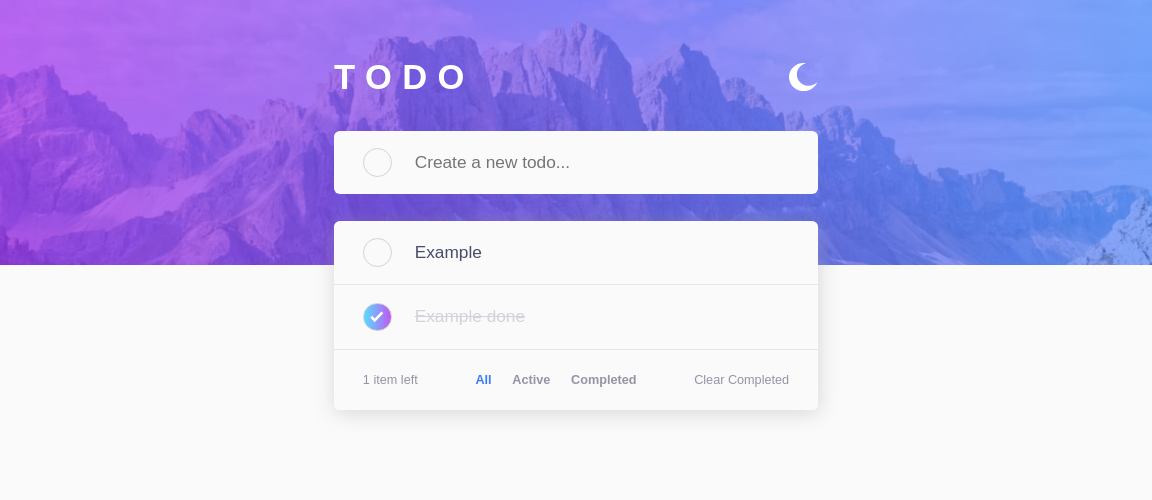
it: TodoList Component › add new task
In the field with placeholder "Create a new todo...": (585, 163) [415,152,756,173], type "Example todo test"
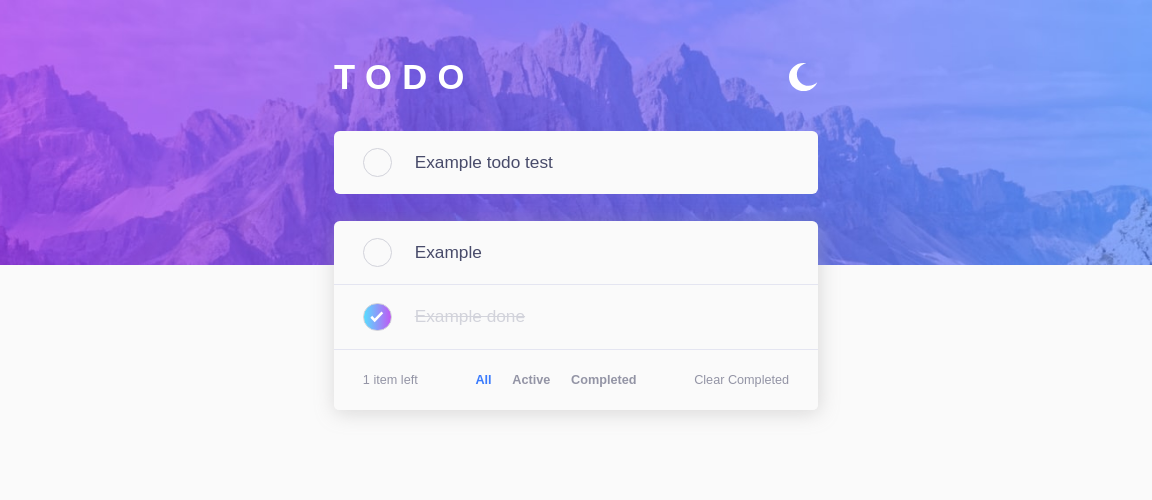
Click the button with test id "create-todo": (377, 163) [363,148,392,177]
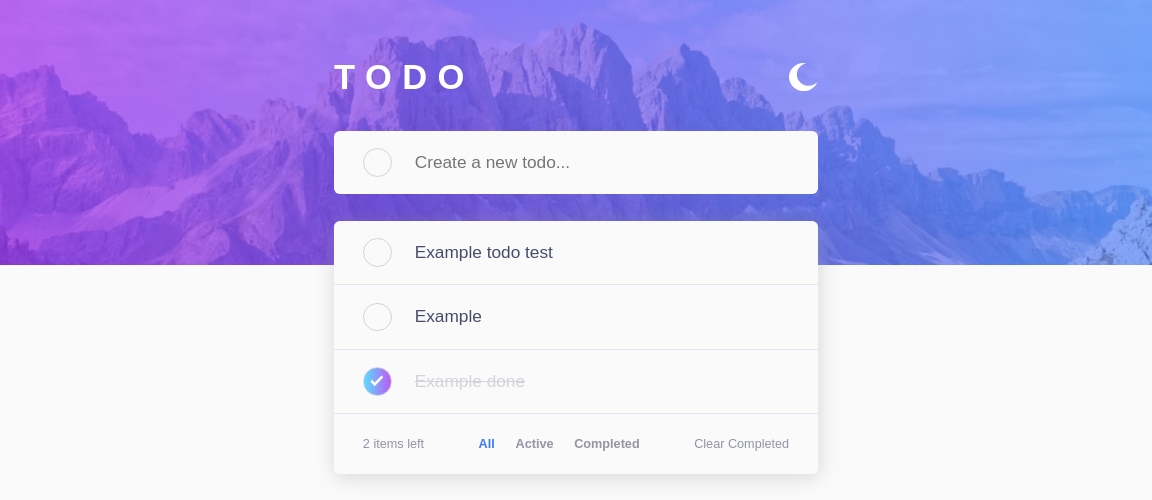
Expected: the heading "Example todo test" is shown, [415,242,553,262]
